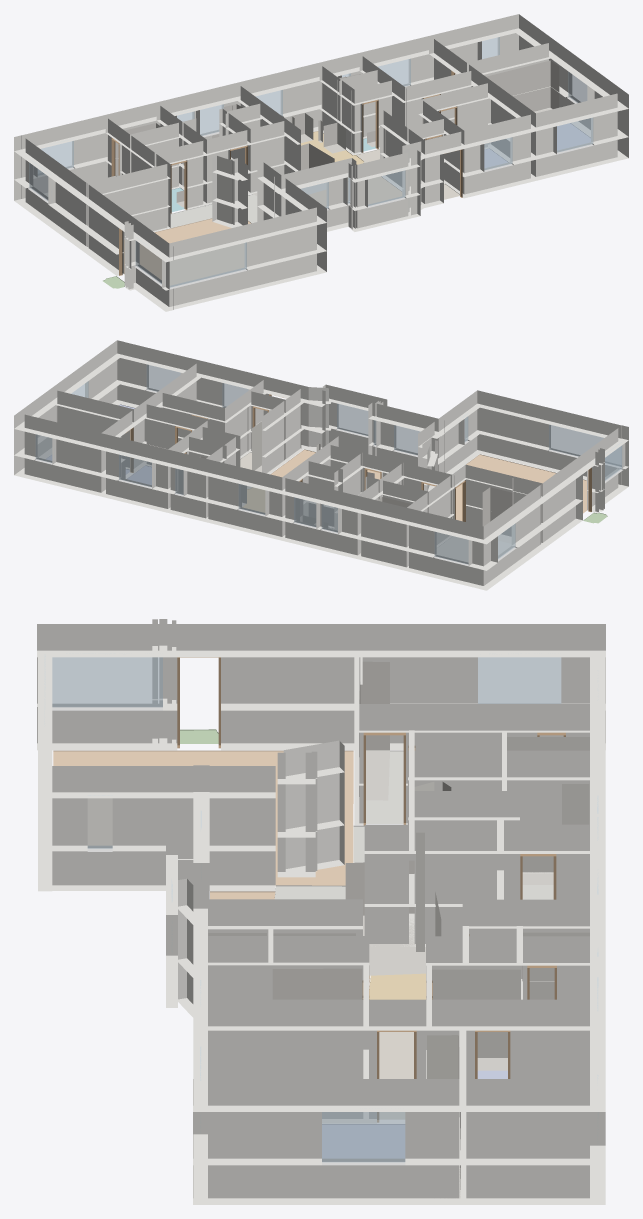
The picture shows the model from 3 angles, top to bottom: view 1: azimuth 30°, elevation 25°; view 2: azimuth 150°, elevation 25°; view 3: azimuth 270°, elevation 25°; orthographic projection. The views are drawn at different scales.
Parts seen in each view (by area): view 1: walls, floor_8_Living_Room, furniture_7_closet, window_14, window_15, window_3, floor_7_Undefined, floor_6_Living_Room, window_2, furniture_28_fireplace, window_20, floor_15_Bed_Room (+9 smaller); view 2: walls, floor_8_Living_Room, window_14, furniture_9_closet, window_0, window_12, window_15, floor_0_Undefined, window_8, window_3, window_4, window_7 (+8 smaller); view 3: walls, floor_8_Living_Room, window_20, window_5, furniture_6_closet, window_1, furniture_28_fireplace, floor_15_Bed_Room, furniture_10_closet, furniture_9_closet, floor_4_Entry, floor_0_Undefined (+9 smaller).
Boxes of the visible parts, x1=… form: walls: x1=14, y1=14, x2=628, y2=311; floor_8_Living_Room: x1=124, y1=218, x2=251, y2=285; furniture_7_closet: x1=486, y1=60, x2=559, y2=113; window_14: x1=169, y1=242, x2=246, y2=287; window_15: x1=368, y1=169, x2=405, y2=206; window_3: x1=557, y1=117, x2=593, y2=152; floor_7_Undefined: x1=170, y1=194, x2=257, y2=228; floor_6_Living_Room: x1=309, y1=176, x2=401, y2=206; window_2: x1=484, y1=137, x2=512, y2=170; furniture_28_fireplace: x1=253, y1=143, x2=334, y2=195; window_20: x1=135, y1=237, x2=161, y2=283; floor_15_Bed_Room: x1=557, y1=123, x2=590, y2=150; walls: x1=14, y1=340, x2=628, y2=590; floor_8_Living_Room: x1=456, y1=454, x2=586, y2=520; window_14: x1=549, y1=424, x2=621, y2=466; furniture_9_closet: x1=482, y1=487, x2=540, y2=544; window_0: x1=434, y1=532, x2=468, y2=564; window_12: x1=119, y1=454, x2=151, y2=487; window_15: x1=337, y1=403, x2=368, y2=435; floor_0_Undefined: x1=437, y1=536, x2=511, y2=562; window_8: x1=238, y1=484, x2=265, y2=514; window_3: x1=146, y1=364, x2=180, y2=391; window_4: x1=394, y1=425, x2=420, y2=455; window_7: x1=294, y1=497, x2=316, y2=527; walls: x1=37, y1=619, x2=605, y2=1204; floor_8_Living_Room: x1=53, y1=750, x2=353, y2=885; window_20: x1=52, y1=657, x2=162, y2=707; window_5: x1=322, y1=1112, x2=405, y2=1162; furniture_6_closet: x1=432, y1=969, x2=520, y2=1070; window_1: x1=478, y1=657, x2=561, y2=703; furniture_28_fireplace: x1=345, y1=860, x2=441, y2=975; floor_15_Bed_Room: x1=322, y1=1124, x2=404, y2=1158; furniture_10_closet: x1=272, y1=968, x2=362, y2=999; furniture_9_closet: x1=359, y1=661, x2=389, y2=800; floor_4_Entry: x1=379, y1=1032, x2=413, y2=1119; floor_0_Undefined: x1=366, y1=750, x2=403, y2=823.
Size of the model in its own units: 23.07 by 2.72 by 11.67.
